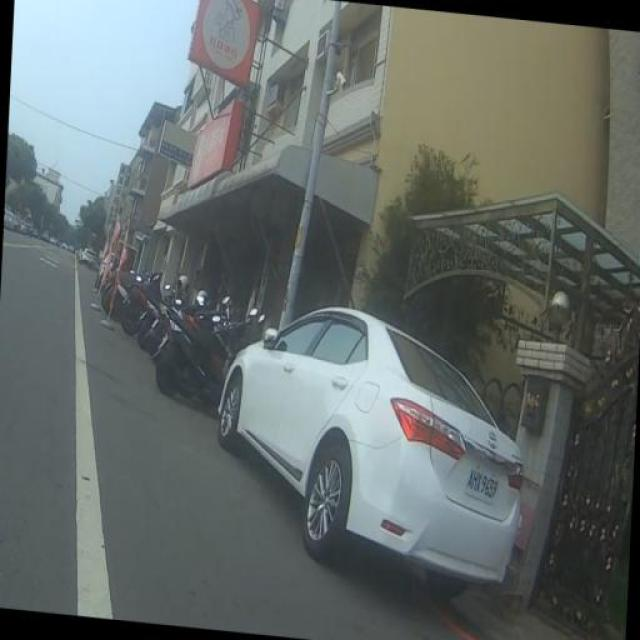Legalparking: (98, 231, 545, 614)
